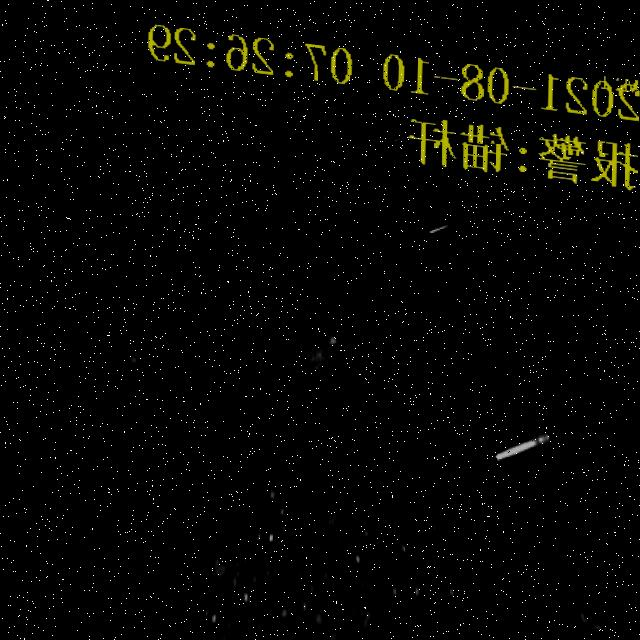bolt: (245, 304, 284, 505)
large_sized_coal: (278, 307, 354, 377), (332, 257, 390, 322)
